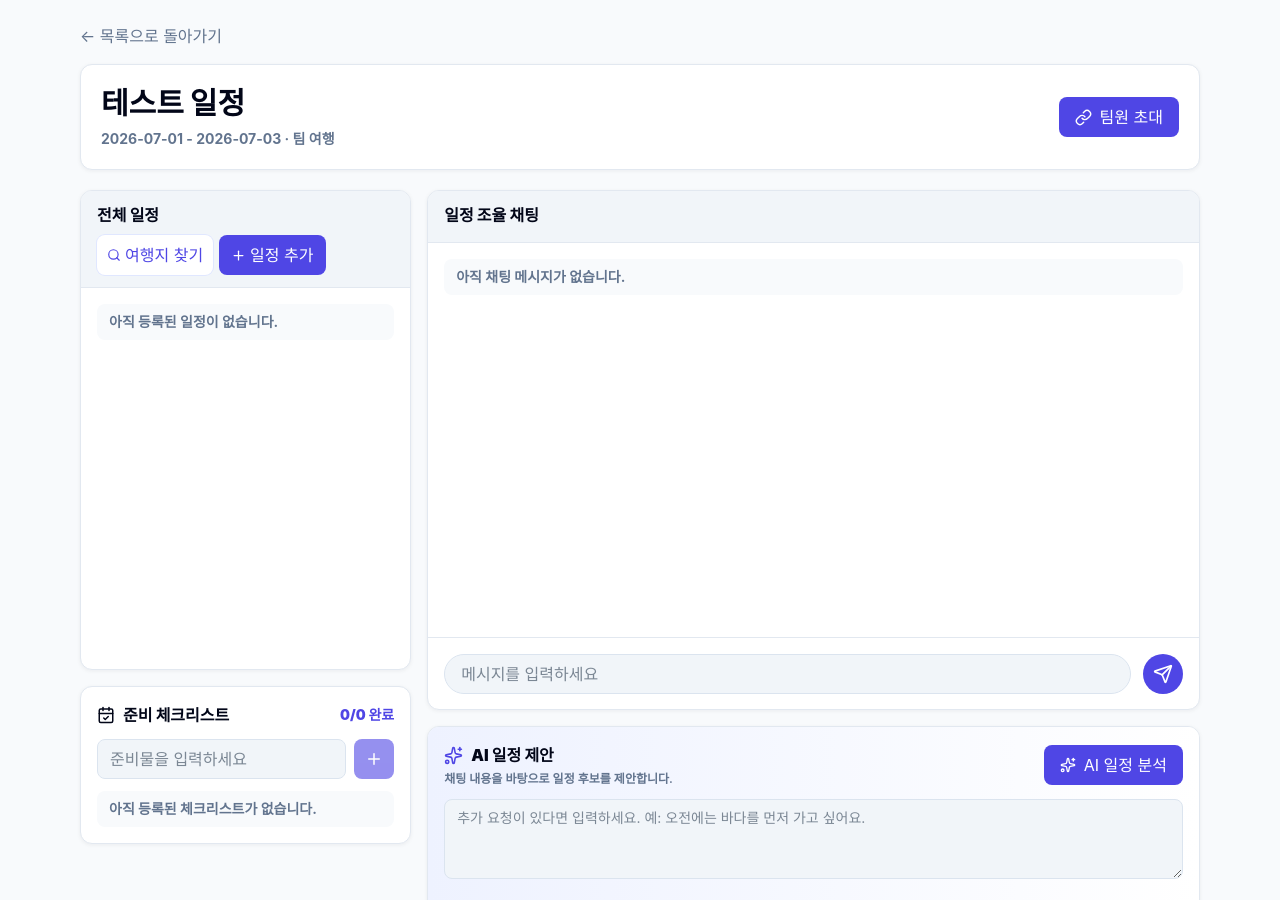
ScheduleDetailPage collaboration controls › keeps a pending chat message when the initial message load finishes later
Type "do not erase me" into the field with test id "chat-input" at (788, 674), box [444, 654, 1131, 694]
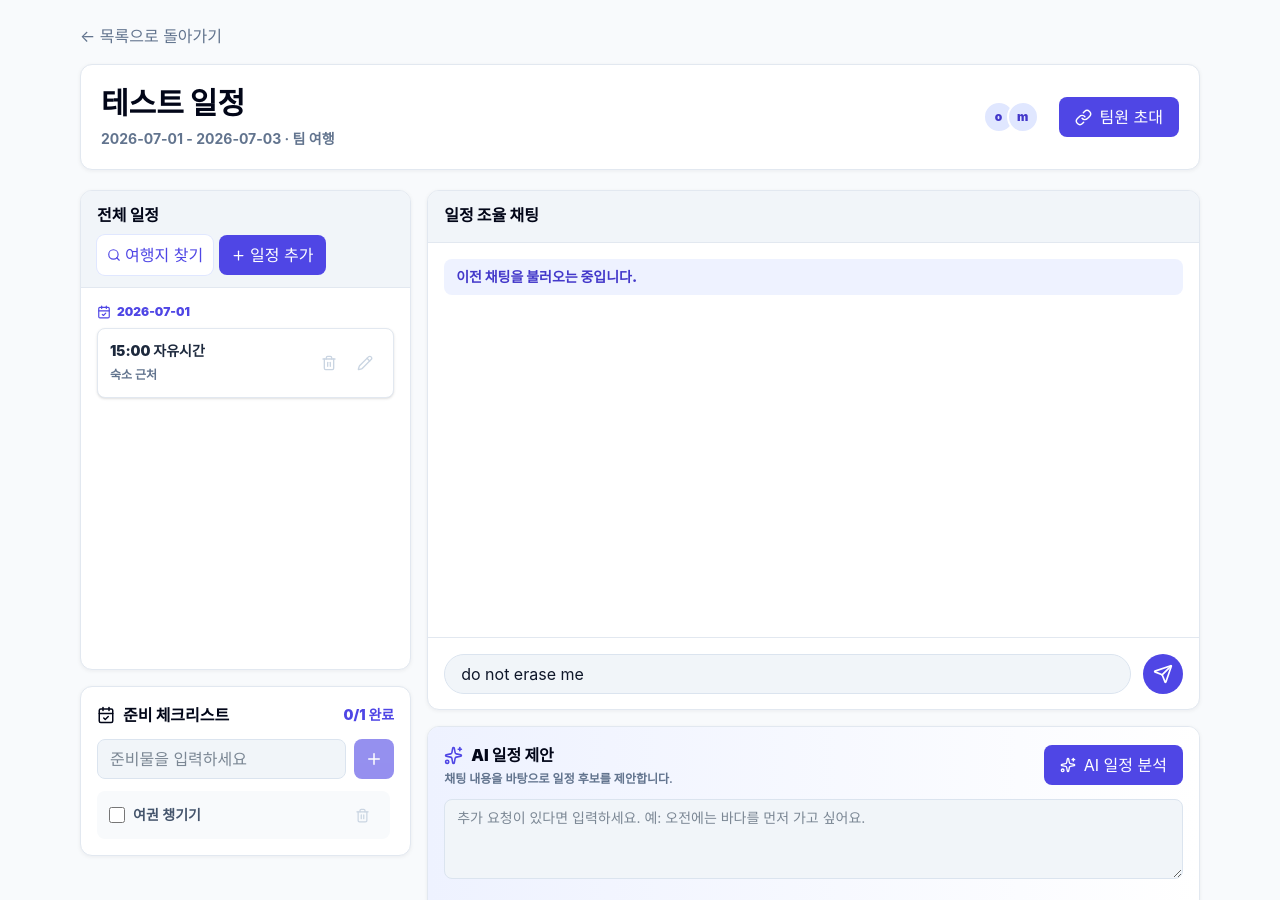
Press Enter in the field with test id "chat-input", box [444, 654, 1131, 694]
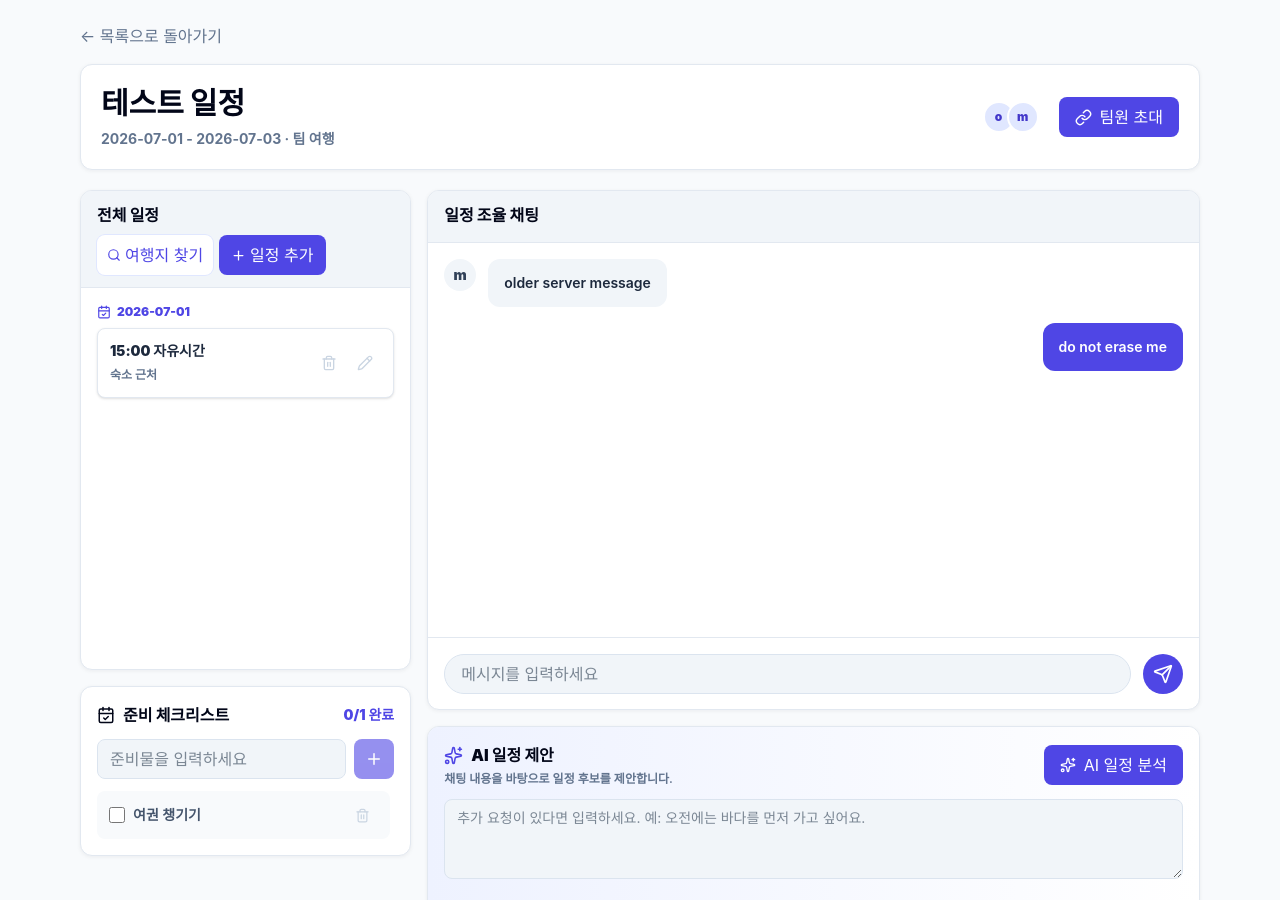
Expected: the text "older server message" is shown, [488, 259, 667, 307]
Expected: the text "do not erase me" is shown, [1042, 323, 1183, 371]
